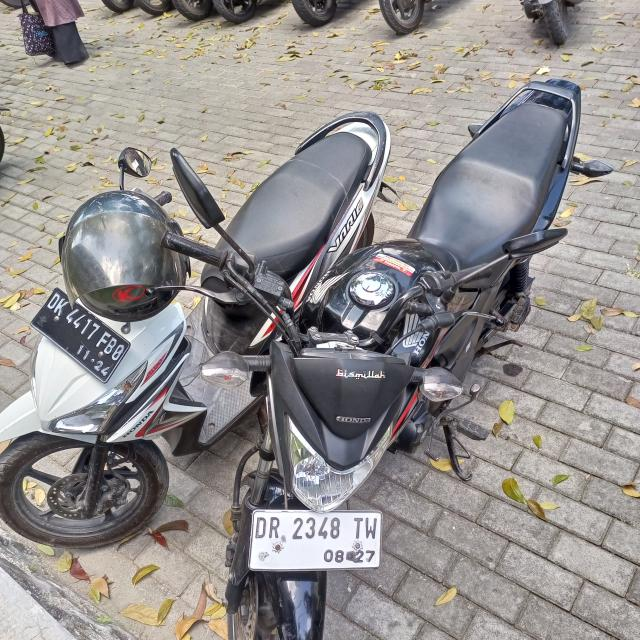plate: (28, 287, 135, 388), (250, 503, 383, 574)
